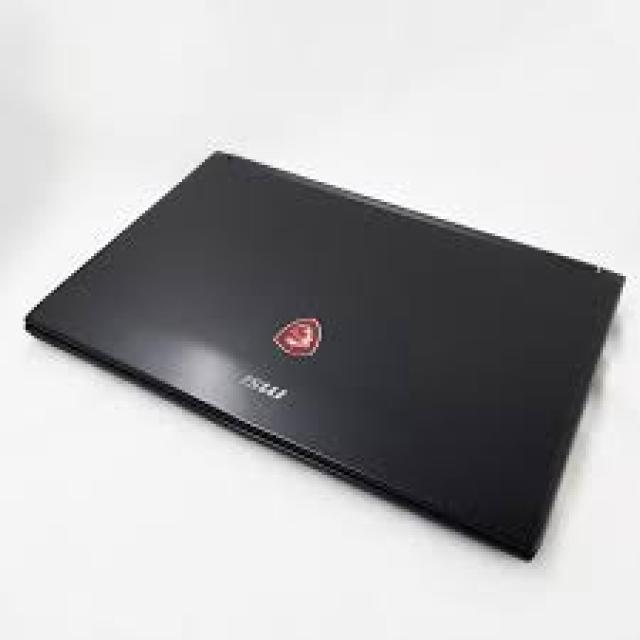laptop: (23, 148, 626, 560)
